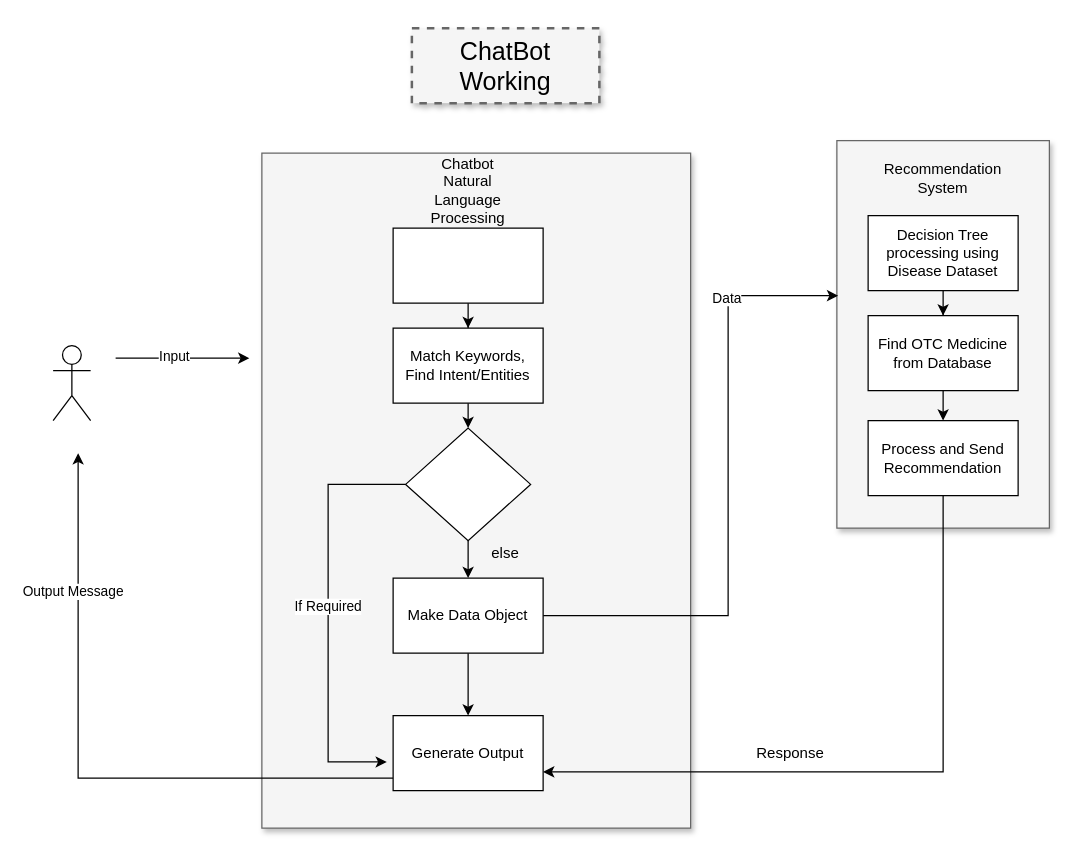
This 1079x860 diagram has some shape labels left out. The shapes that lost their labels are listed below. From the top down, each one's centre as x and y in pixels, then its label:
the point at 467,265: Pre-Processing
the point at 71,382: User
the point at 467,484: Questioning
